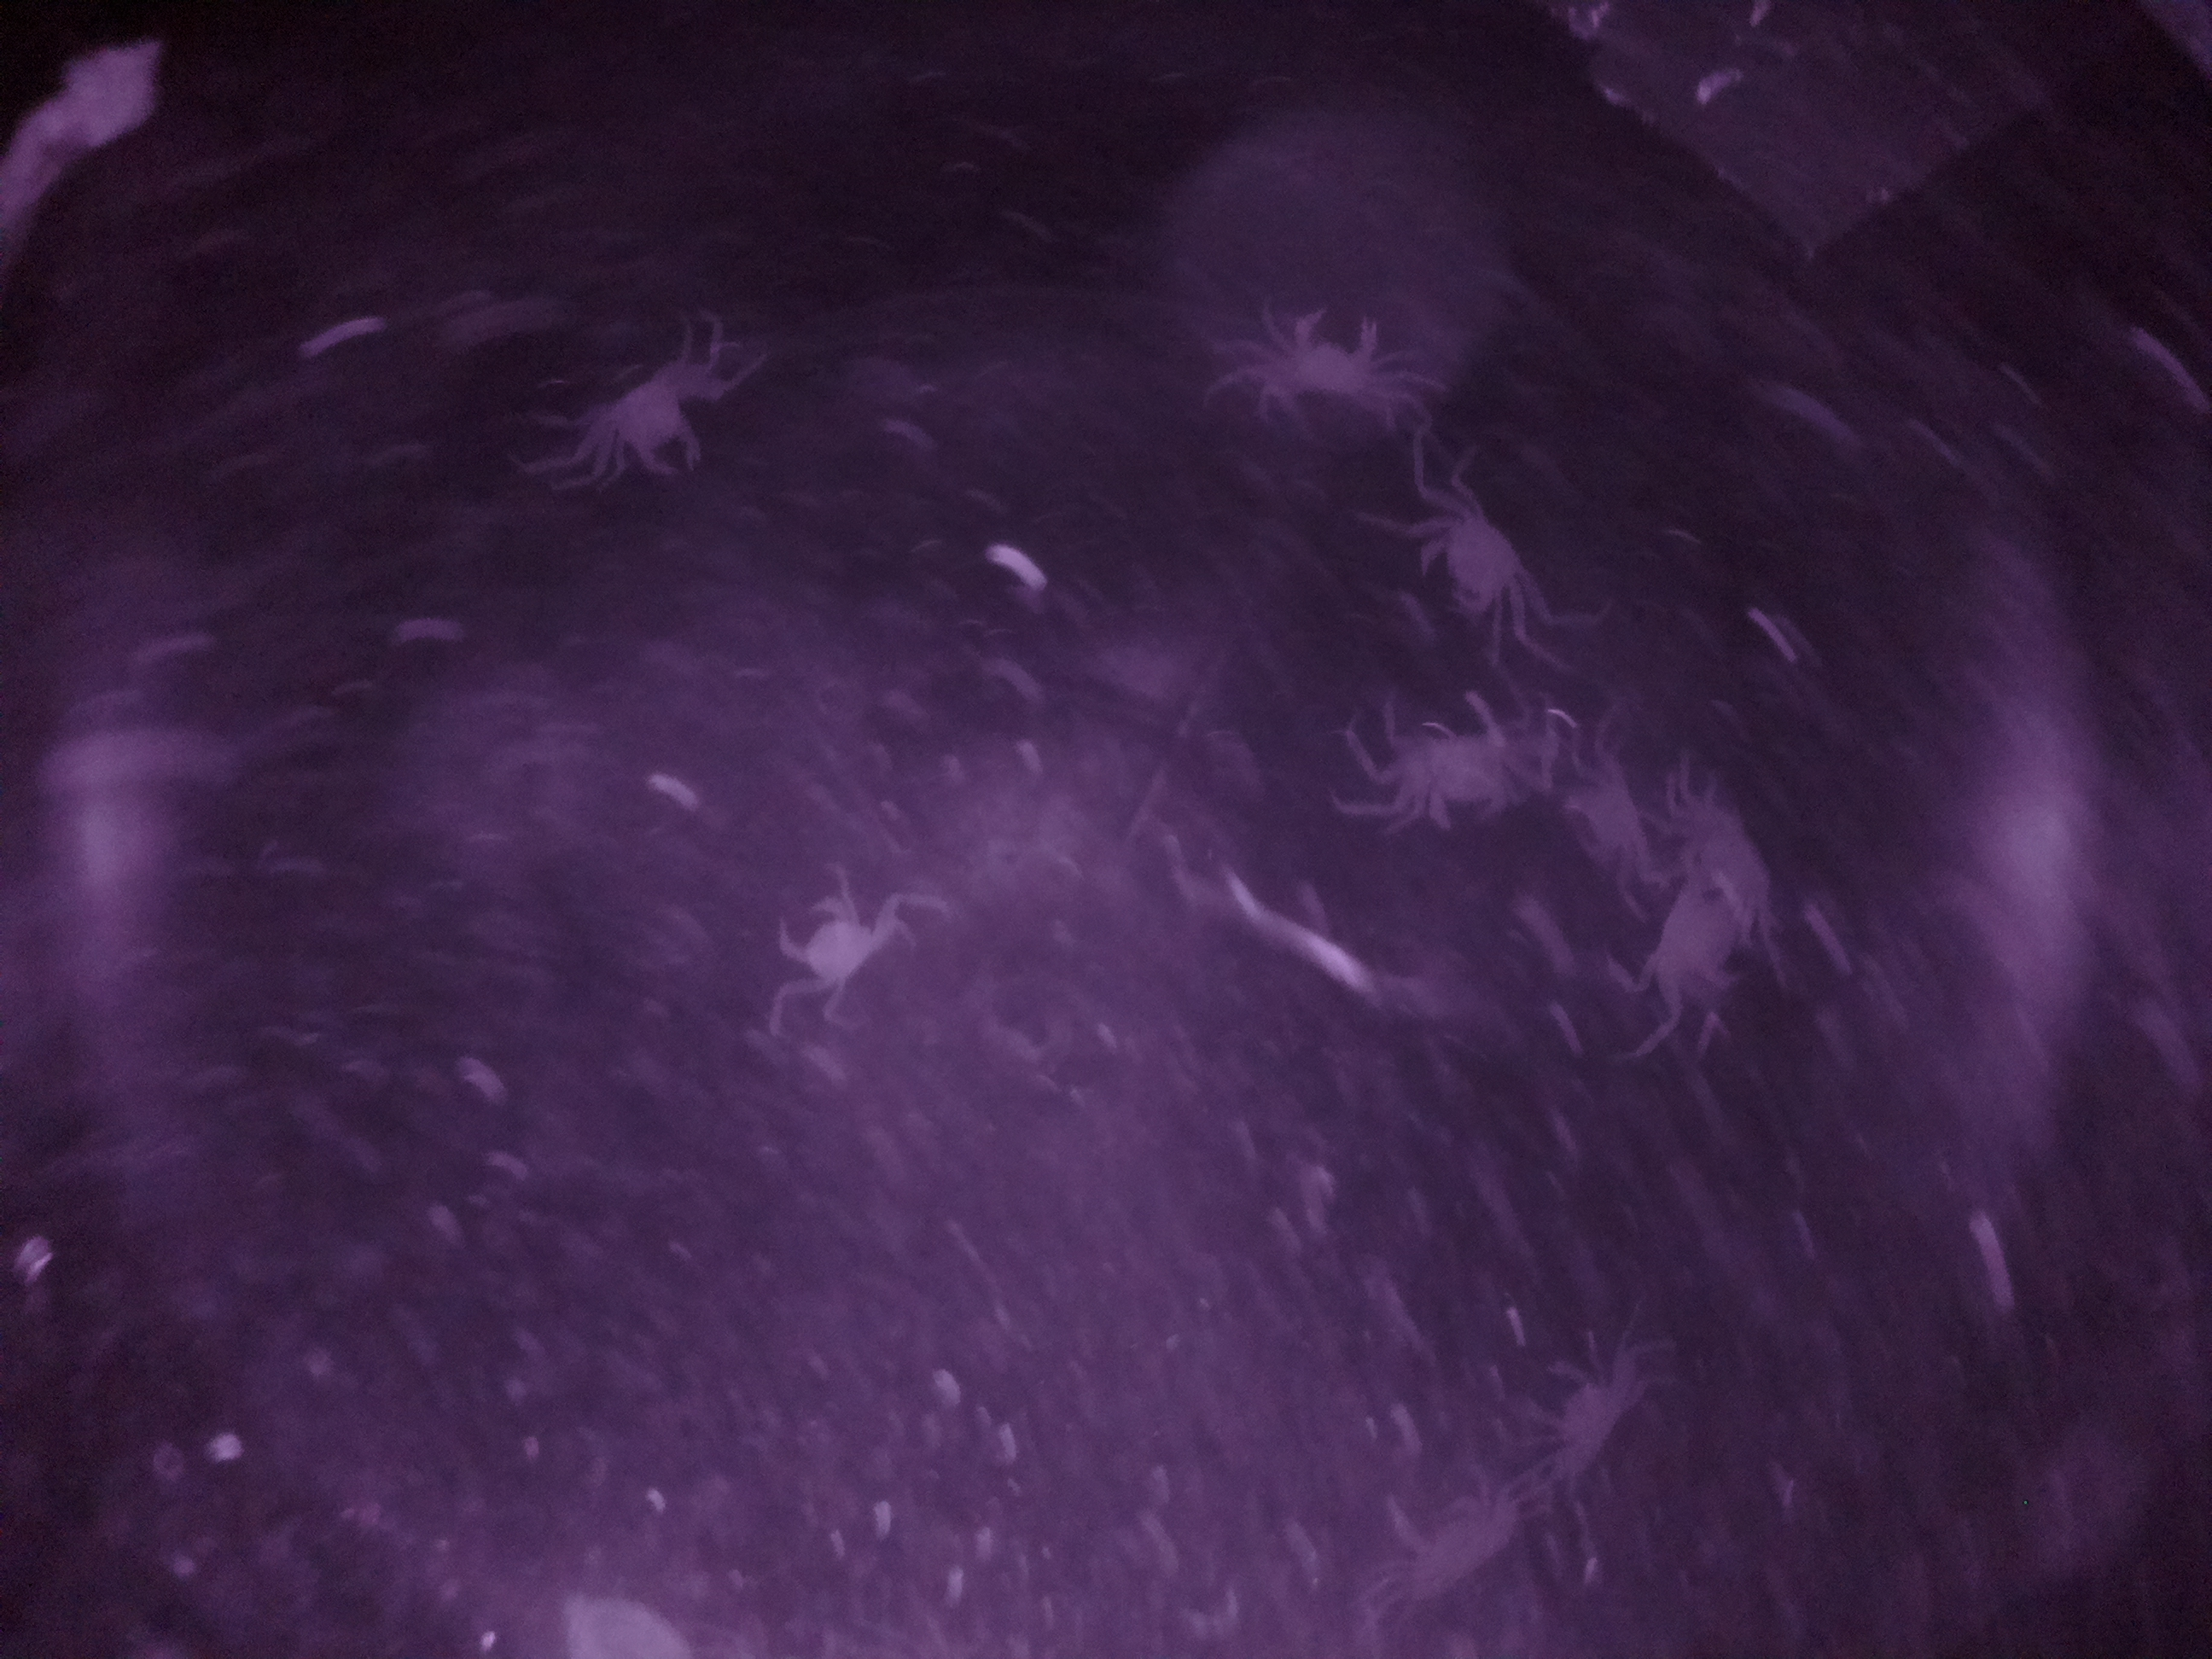Crab: (1393, 484, 1550, 648), (585, 359, 711, 505)
